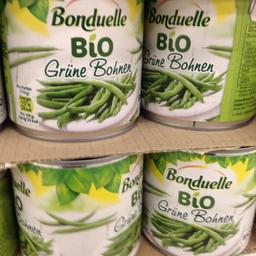beans: (3, 0, 144, 141), (144, 0, 250, 133), (10, 152, 140, 255), (142, 148, 255, 254)
